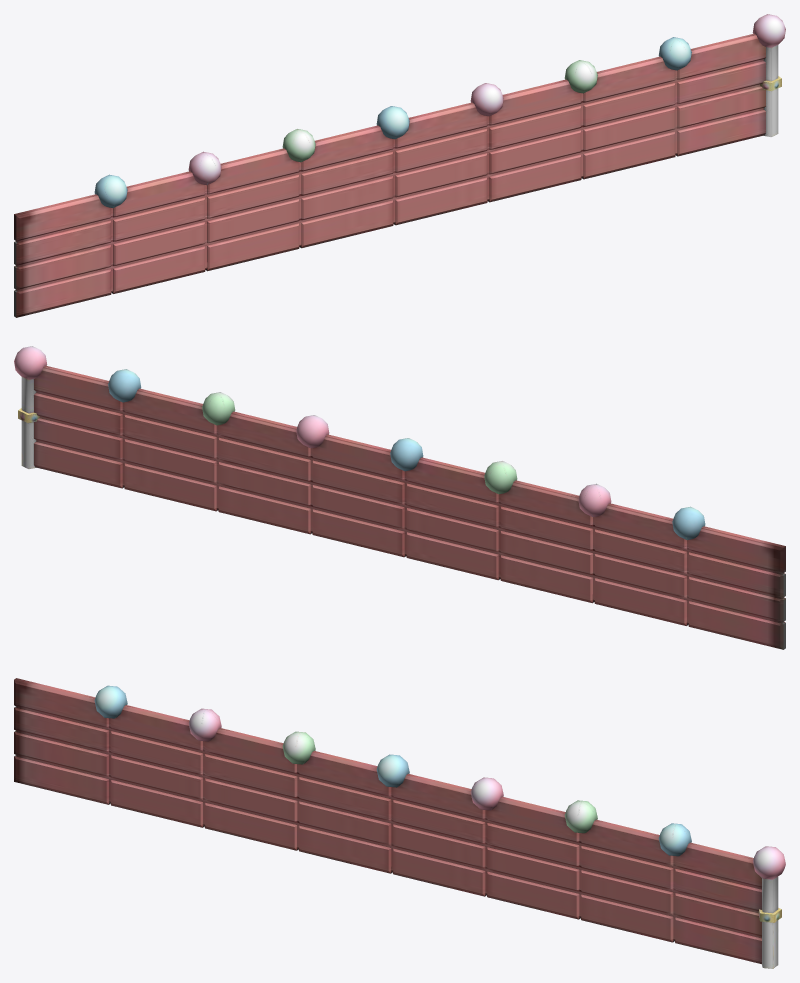
File: c3a62381-1e70-4b77-a058-789954ddcc57.glb
The picture shows the model from 3 angles, top to bottom: view 1: azimuth 30°, elevation 25°; view 2: azimuth 150°, elevation 25°; view 3: azimuth 330°, elevation 25°; orthographic projection.
Parts seen in each view (by area): view 1: structure2; view 2: structure2; view 3: structure2.
Part boxes in pixels (x1,y1,x2,y2): structure2: (14, 14, 785, 317); structure2: (14, 346, 785, 649); structure2: (14, 678, 785, 968).
Size of what is drawn, in the model's own units: 15.75 by 2.31 by 0.6033.
Materials: 1 (1 with a texture image).
